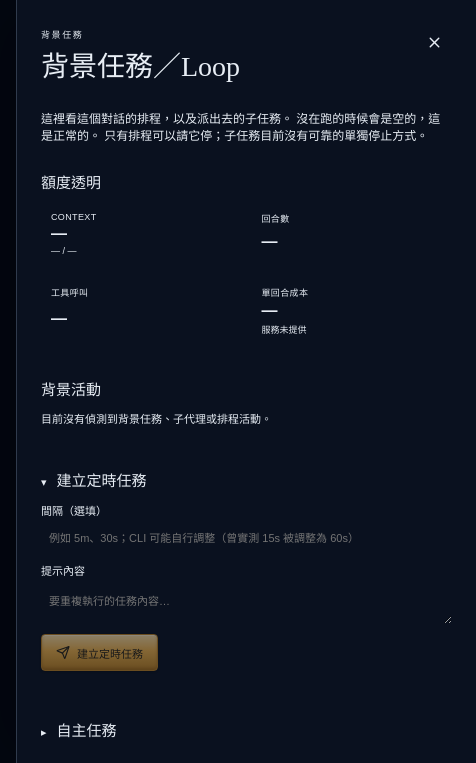
Test case: BackgroundTasksPanel › shows a local error and keeps the typed prompt when loop creation fails (never touches the composer)
In the text box labelled "提示內容": (246,604) [41,584,452,624], type "watch the build"
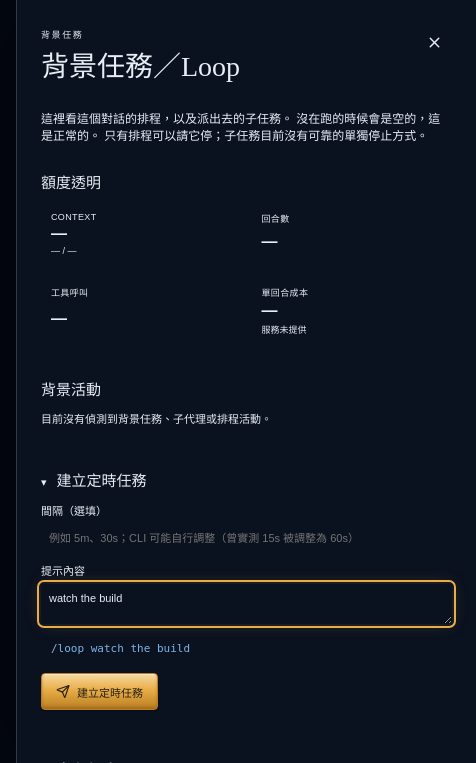
Click the button "建立定時任務": (100,692) [41,673,158,710]
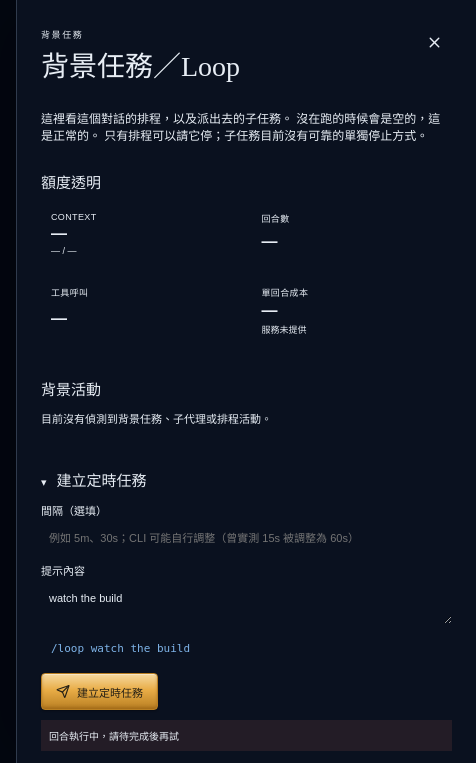
Result: the message with test id "bgtasks-loop-error" reads "回合執行中，請待完成後再試" at [49,731,179,742]
